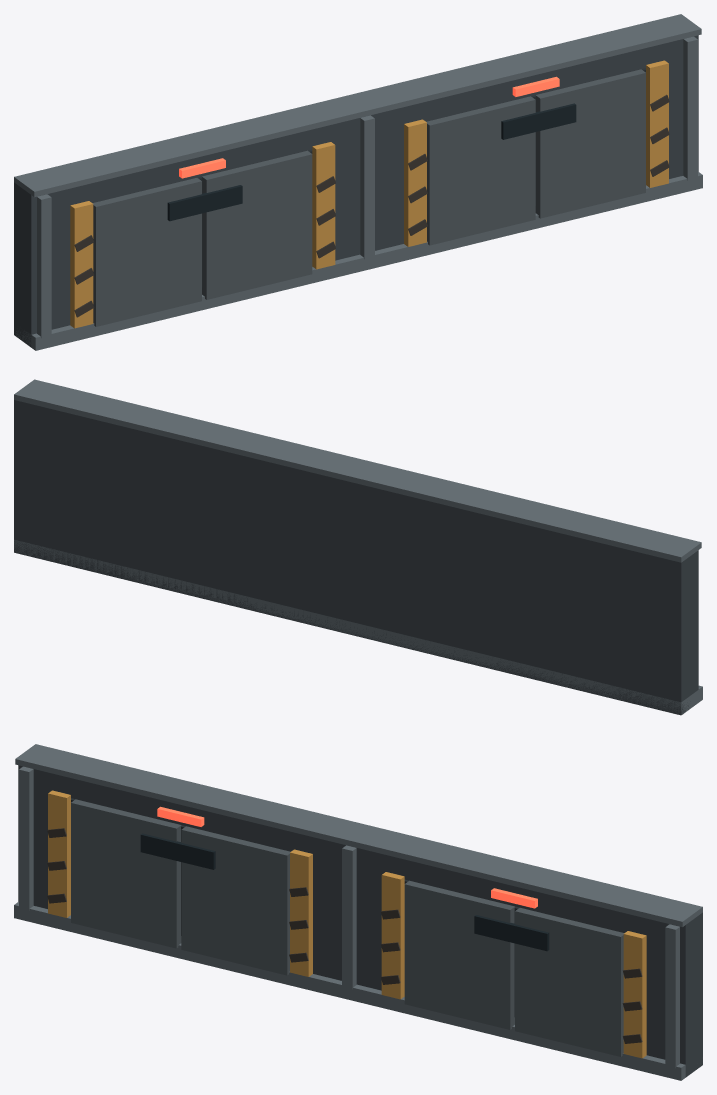
Rendered from SC_WallB.glb.
3 renders of one model, top to bottom at view 1: azimuth 30°, elevation 25°; view 2: azimuth 150°, elevation 25°; view 3: azimuth 330°, elevation 25°, orthographic.
Parts seen in each view (by area): view 1: SC_WallB; view 2: SC_WallB; view 3: SC_WallB.
Part boxes in pixels (left/top/right/bottom): SC_WallB: left=14, top=14, right=702, bottom=350; SC_WallB: left=14, top=379, right=702, bottom=715; SC_WallB: left=14, top=744, right=702, bottom=1080.
Bounding box in the file's own units: 64 × 14.5 × 4.2.
Materials: 2 (2 with a texture image).
